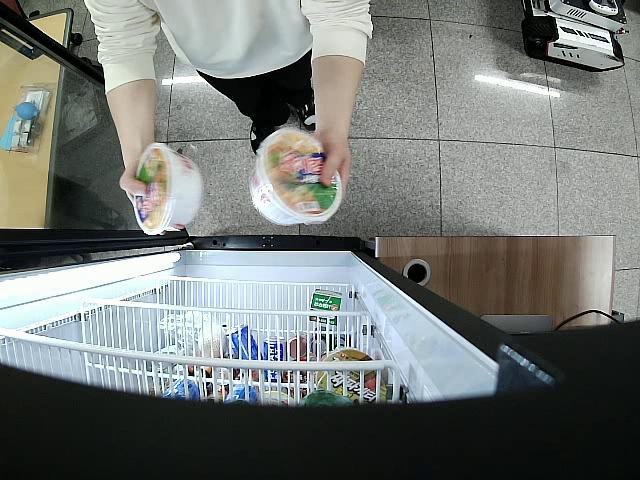00_hand: (311, 126, 352, 203), (117, 156, 153, 203)
09_yukGaeJang: (249, 128, 343, 225), (133, 143, 203, 235)
